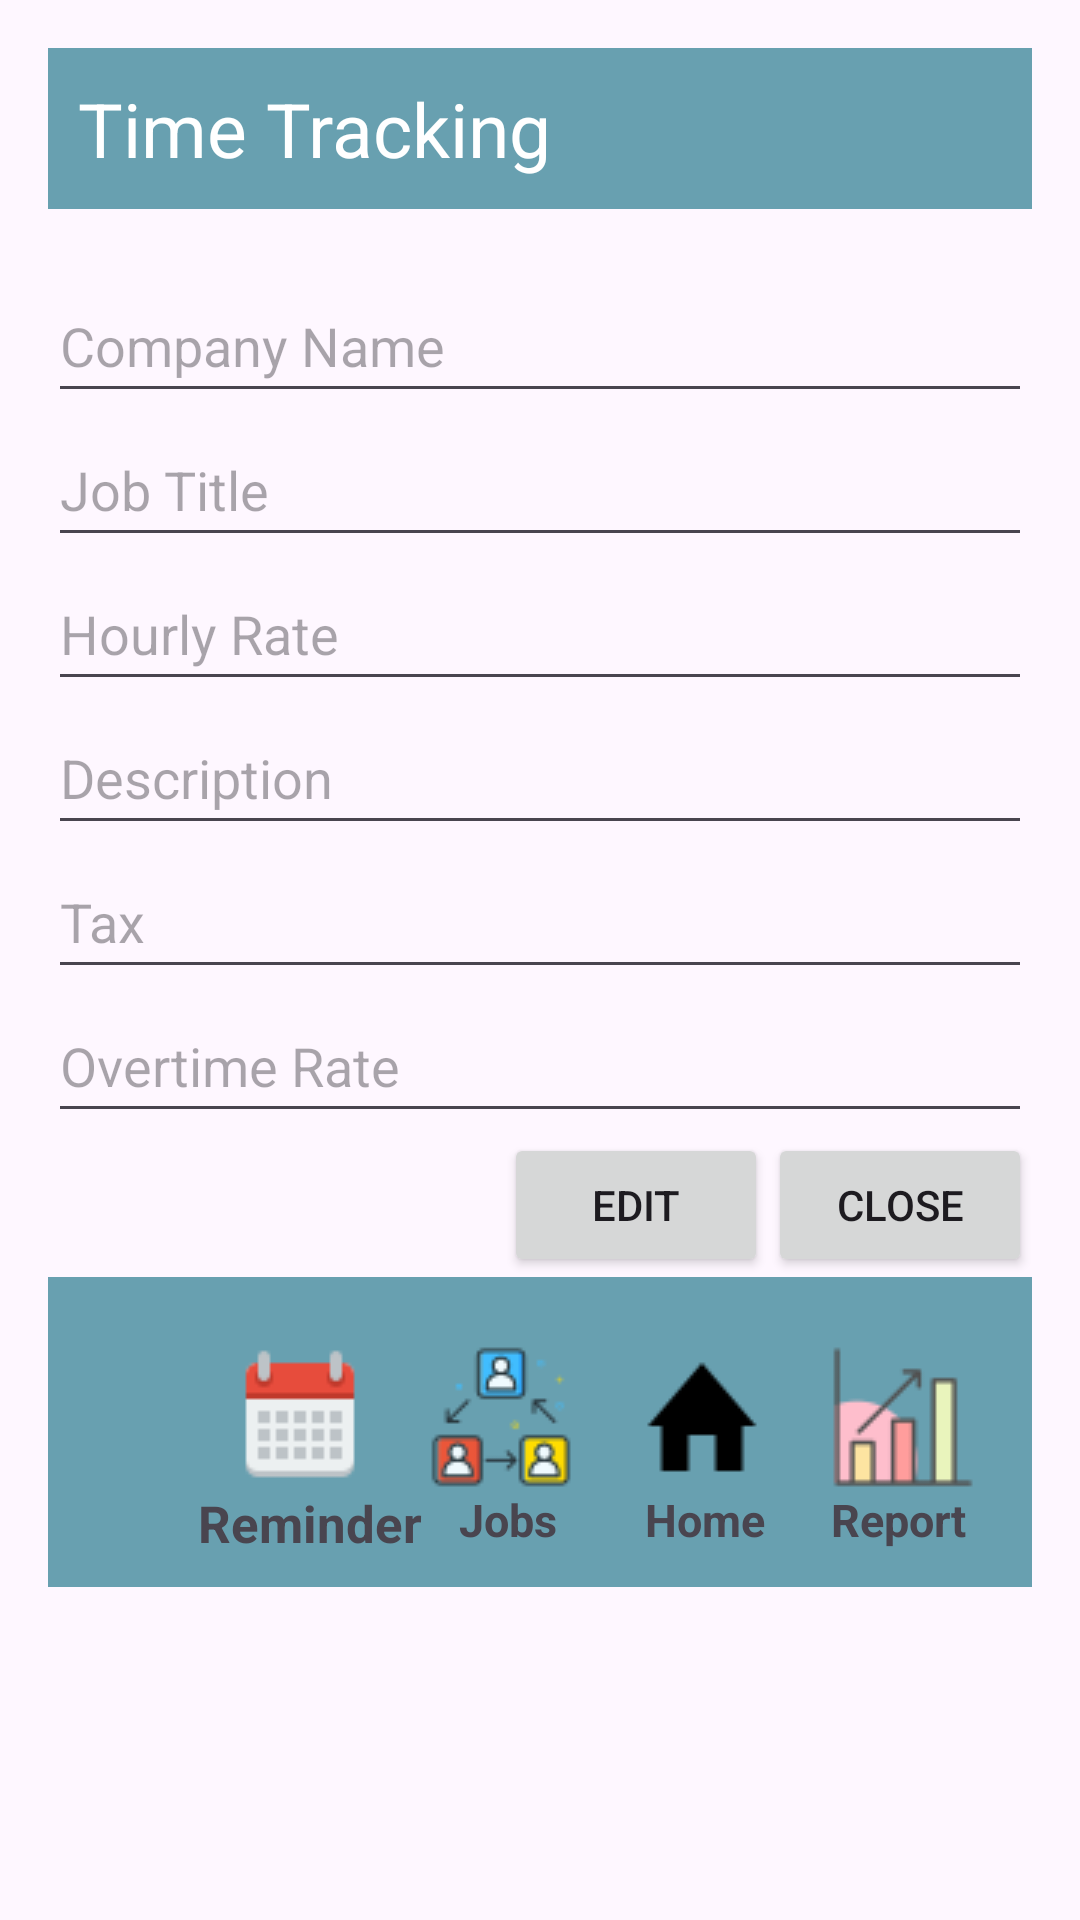

Icon bounding boxes for this 1080px x 1920px phone screenshot, format (x1, y1, x2, y2):
analytics: (834, 1348, 972, 1487)
calendar: (245, 1350, 355, 1478)
